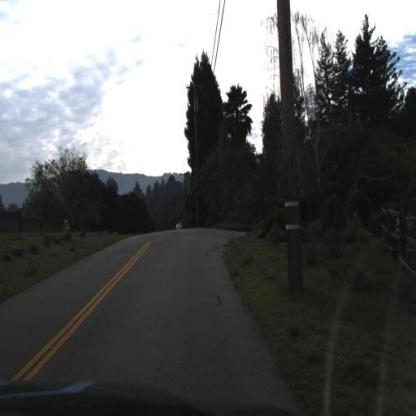car: (173, 219, 187, 236), (175, 221, 184, 233)
